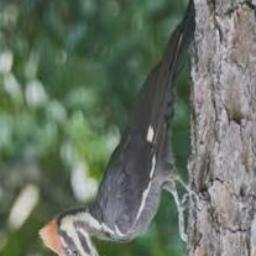Woodpecker: (37, 0, 198, 256)
